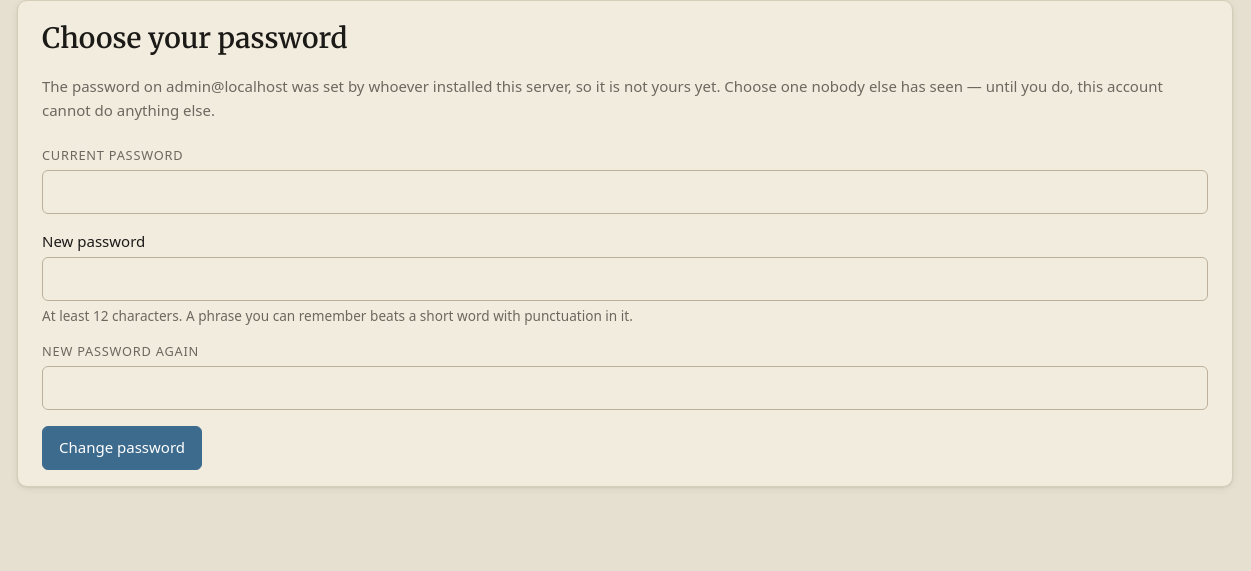
Test case: changing it › reports the server's refusal and stays on the form
The width and height of the screenshot is (1251, 571).
Type "not the seeded password" into the password field labelled "Current password".
click(625, 192); type("not the seeded password")  # box [42, 170, 1208, 214]
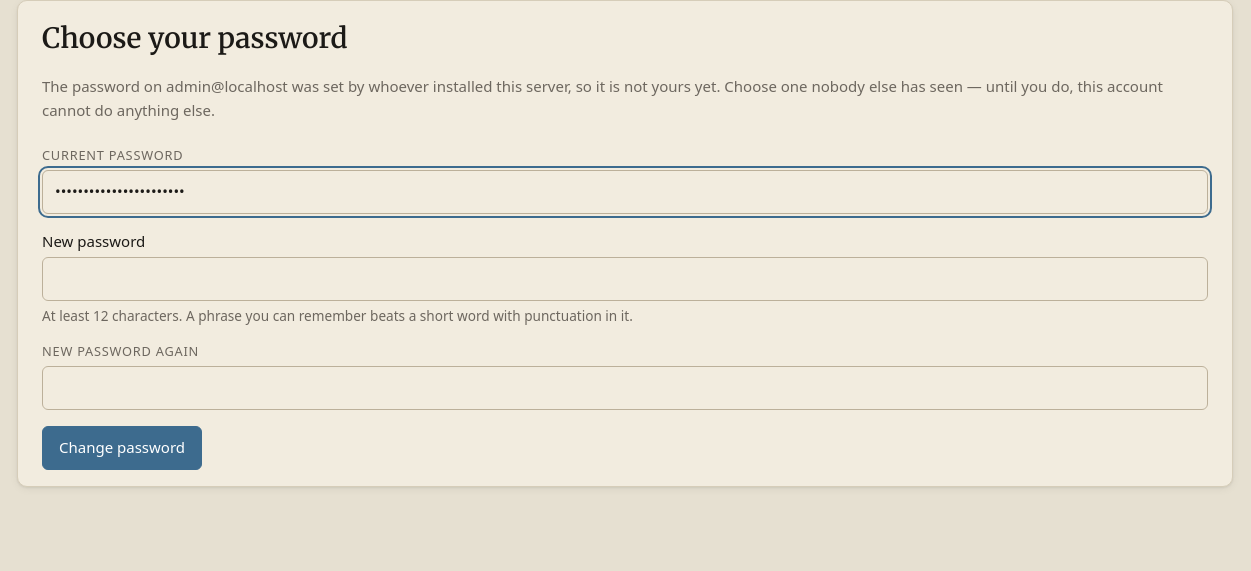
Type "a passphrase nobody else has seen" into the password field labelled "New password".
click(625, 279); type("a passphrase nobody else has seen")  # box [42, 257, 1208, 301]
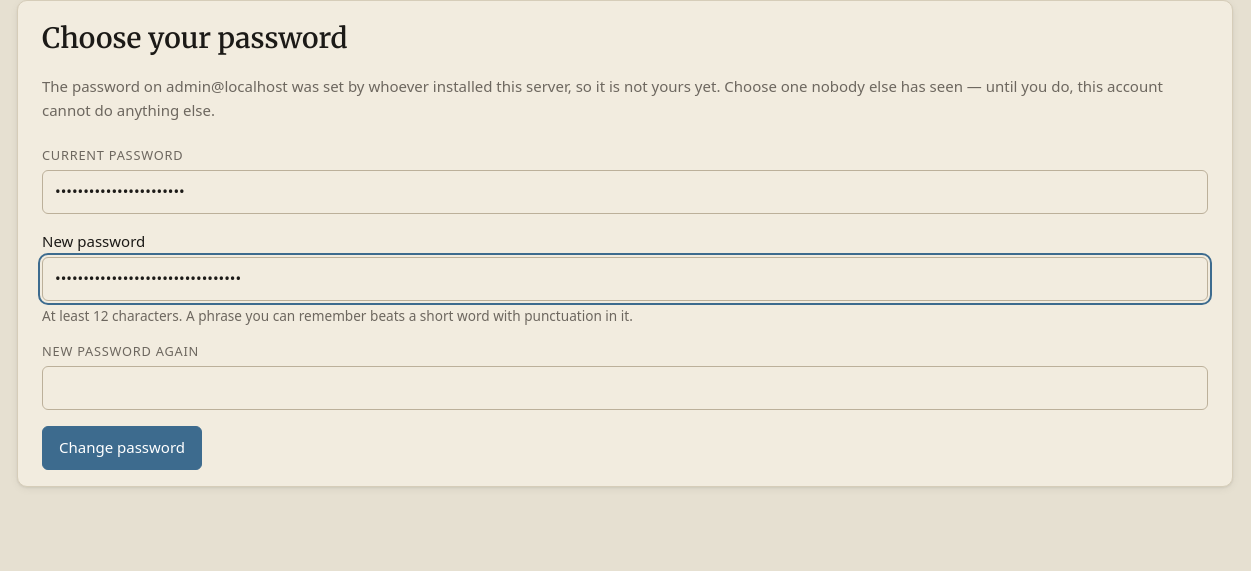
Type "a passphrase nobody else has seen" into the password field labelled "New password again".
click(625, 388); type("a passphrase nobody else has seen")  # box [42, 366, 1208, 410]
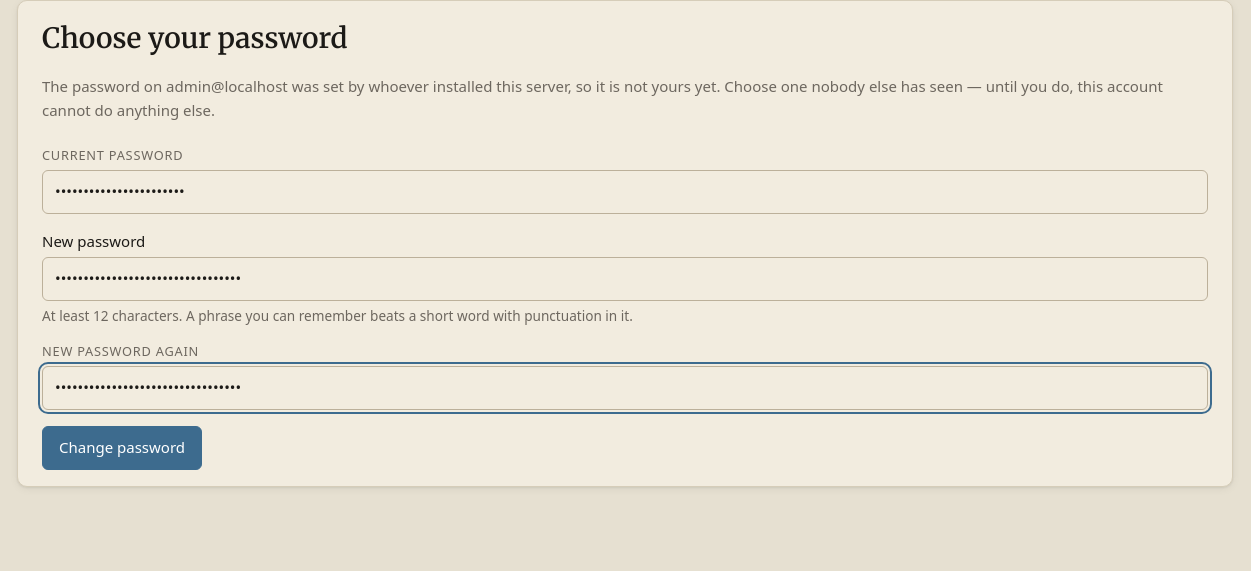
Click the button "Change password".
click(122, 448)  # box [42, 426, 202, 470]
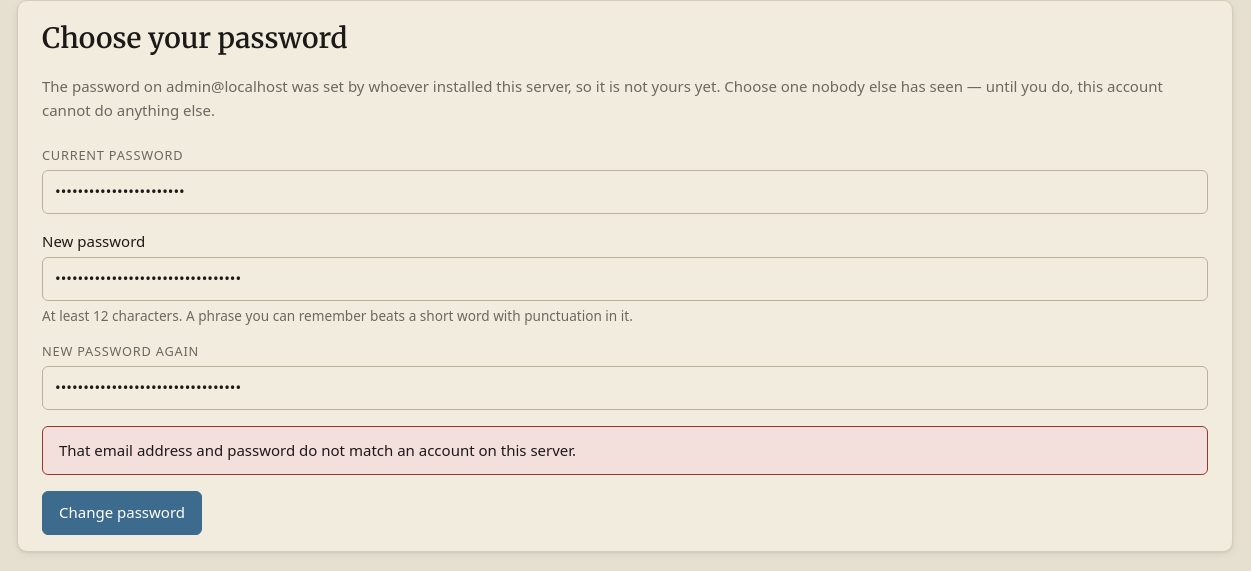
Check: the message shows "do not match an account", box [59, 440, 576, 460]
